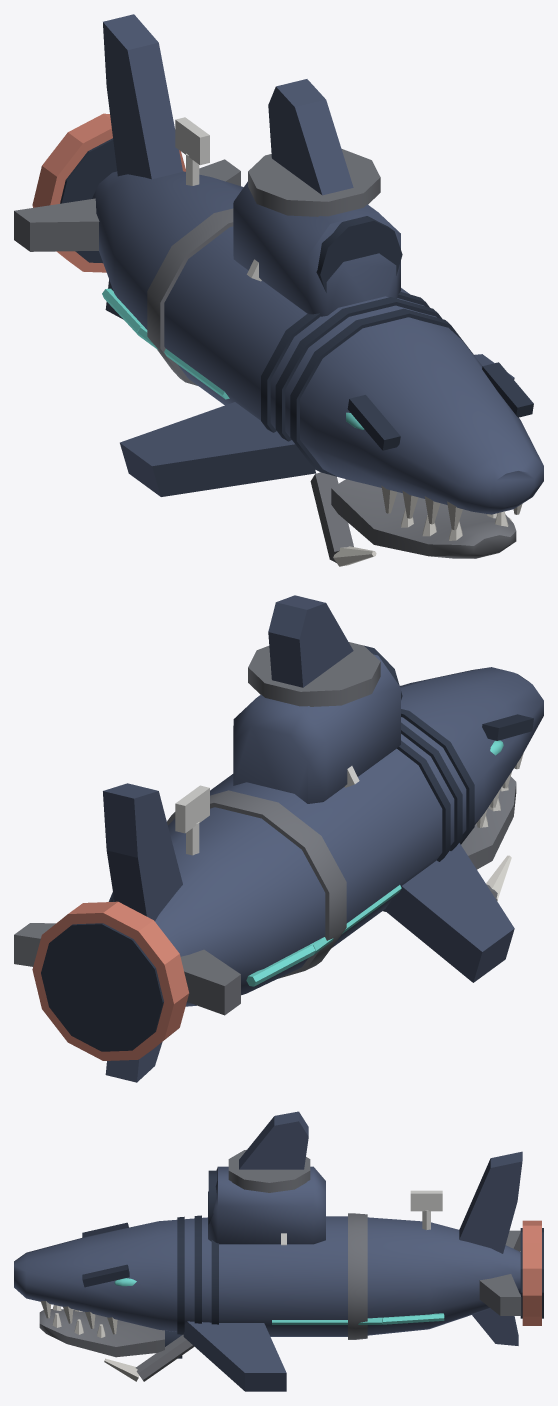
Rendered from submarines_MidnightHunter.glb.
3 views of the same model, one above another, from view 1: azimuth 30°, elevation 25°; view 2: azimuth 150°, elevation 25°; view 3: azimuth 270°, elevation 25° (orthographic). The views are drawn at different scales.
Visible parts, largest first — view 1: Hull, Hull_Glow; view 2: Hull, Hull_Glow; view 3: Hull, Hull_Glow.
Boxes of the visible parts, x1,y1,x2,y2 form: Hull: (14, 14, 543, 566); Hull_Glow: (102, 288, 364, 429); Hull: (14, 595, 543, 1082); Hull_Glow: (246, 740, 503, 986); Hull: (14, 1111, 543, 1391); Hull_Glow: (114, 1278, 444, 1324).
Size of the model in its own units: 22.02 by 21.78 by 43.15.
